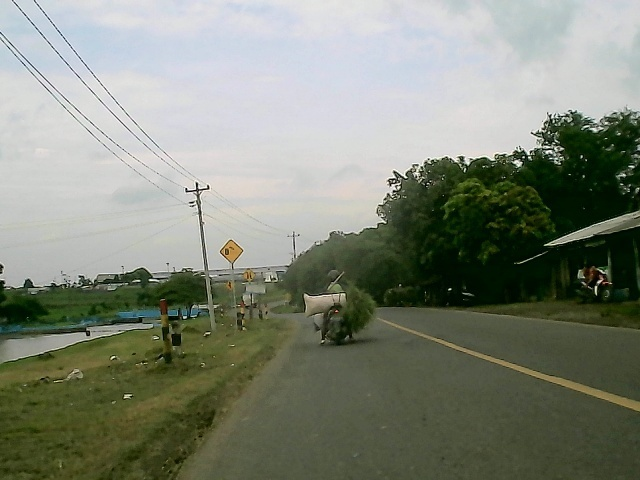Peringatan tepi air: (218, 239, 247, 268)
